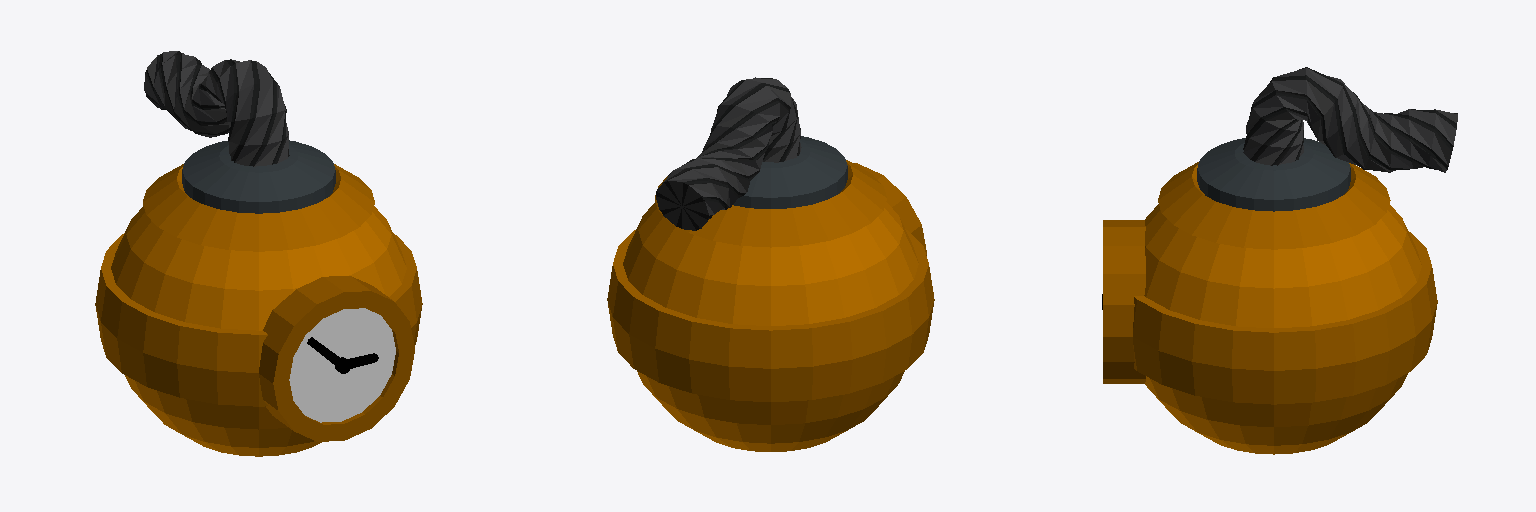
3 renders of one model, left to right at view 1: azimuth 30°, elevation 25°; view 2: azimuth 150°, elevation 25°; view 3: azimuth 270°, elevation 25°, orthographic.
Visible parts, largest first — view 1: Sphere; view 2: Sphere; view 3: Sphere.
Part boxes in pixels (left/top/right/bottom): Sphere: left=95, top=51, right=422, bottom=456; Sphere: left=607, top=77, right=934, bottom=451; Sphere: left=1102, top=67, right=1457, bottom=454.
Bounding box in the file's own units: 2.14 × 2.66 × 2.32.
1 materials, 1 textured.